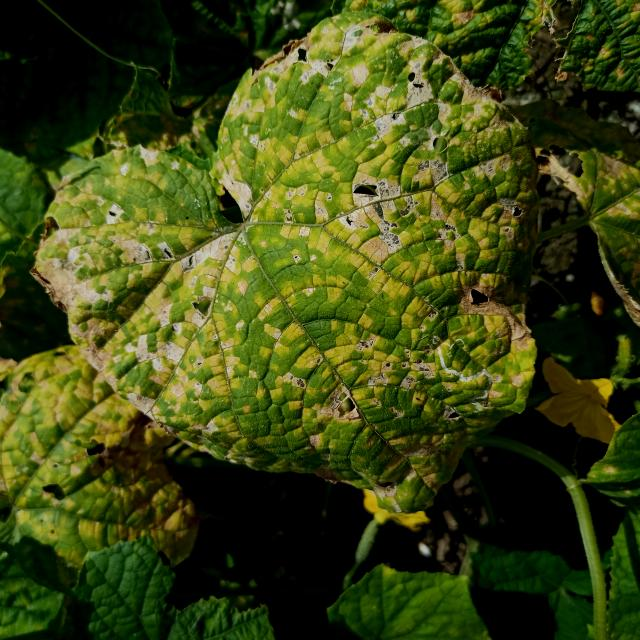disease_cucumber: (59, 31, 538, 503), (1, 354, 194, 586)
